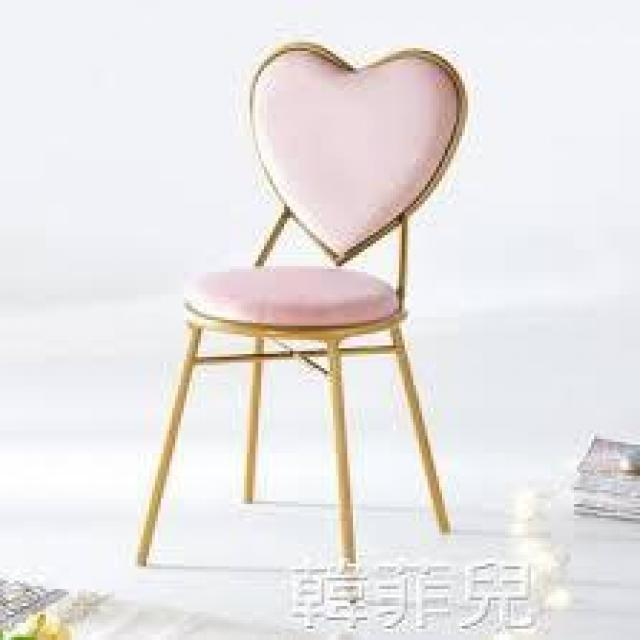chair: (96, 22, 564, 580)
